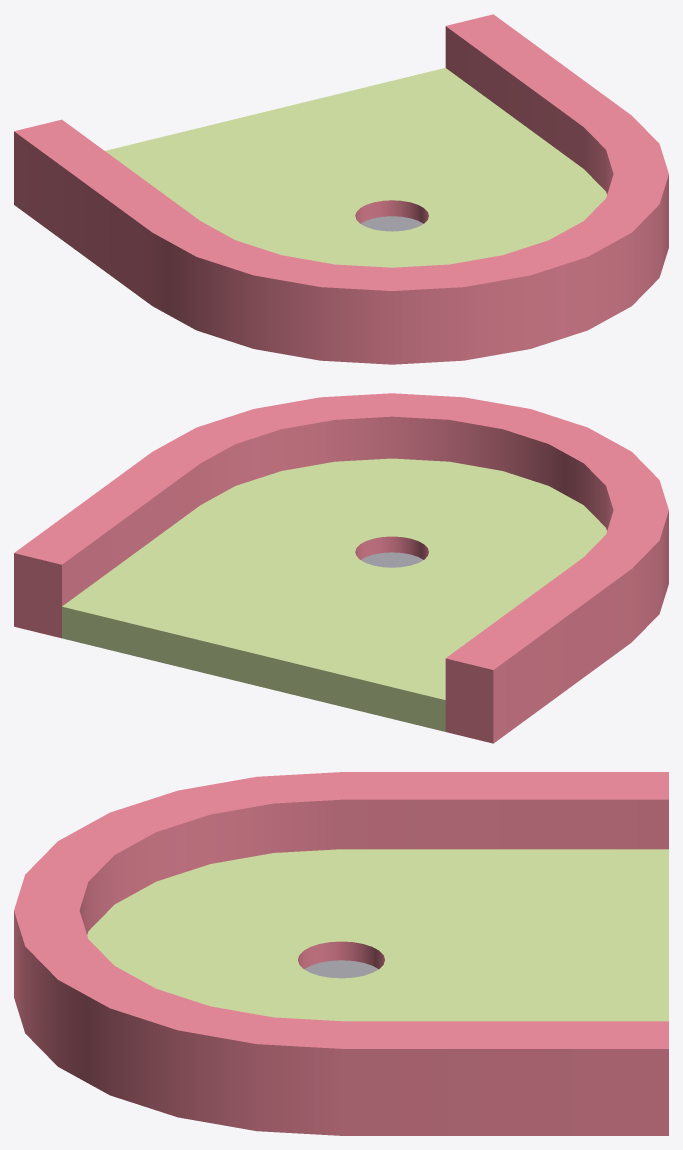
File: holeRound.fbx
The picture shows the model from 3 angles, top to bottom: view 1: azimuth 30°, elevation 25°; view 2: azimuth 150°, elevation 25°; view 3: azimuth 270°, elevation 25°; orthographic projection. The views are drawn at different scales.
Visible parts, largest first — view 1: holeRound; view 2: holeRound; view 3: holeRound.
Part boxes in pixels (x1,y1,x2,y2): holeRound: (14,14,668,364); holeRound: (14,393,668,743); holeRound: (14,772,668,1135).
Size of the model in its own units: 99.99 by 14.67 by 99.99.
